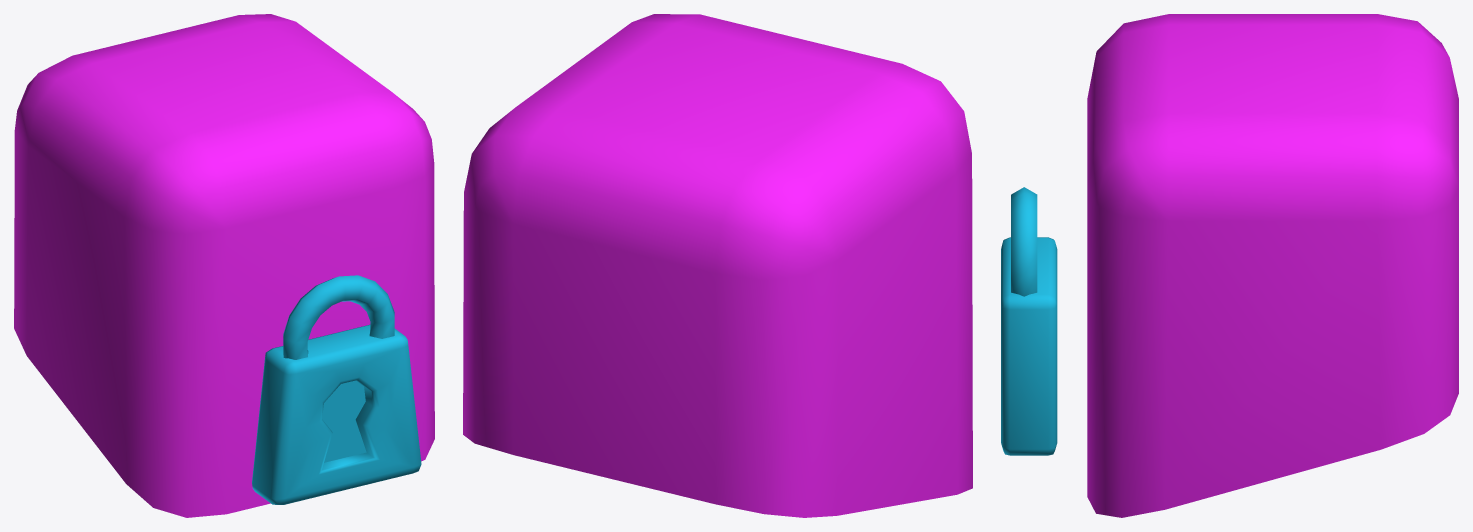
The model's file is SM_ButtonLock.FBX.
3 renders of one model, left to right at view 1: azimuth 30°, elevation 25°; view 2: azimuth 150°, elevation 25°; view 3: azimuth 270°, elevation 25°, orthographic. The views are drawn at different scales.
Visible parts, largest first — view 1: ButtonGlassLock; view 2: ButtonGlassLock; view 3: ButtonGlassLock.
Part boxes in pixels (left/top/right/bottom): ButtonGlassLock: left=14, top=14, right=434, bottom=517; ButtonGlassLock: left=463, top=14, right=972, bottom=517; ButtonGlassLock: left=1001, top=14, right=1458, bottom=517.
Size of the model in its own units: 23.62 by 26.93 by 29.11.
